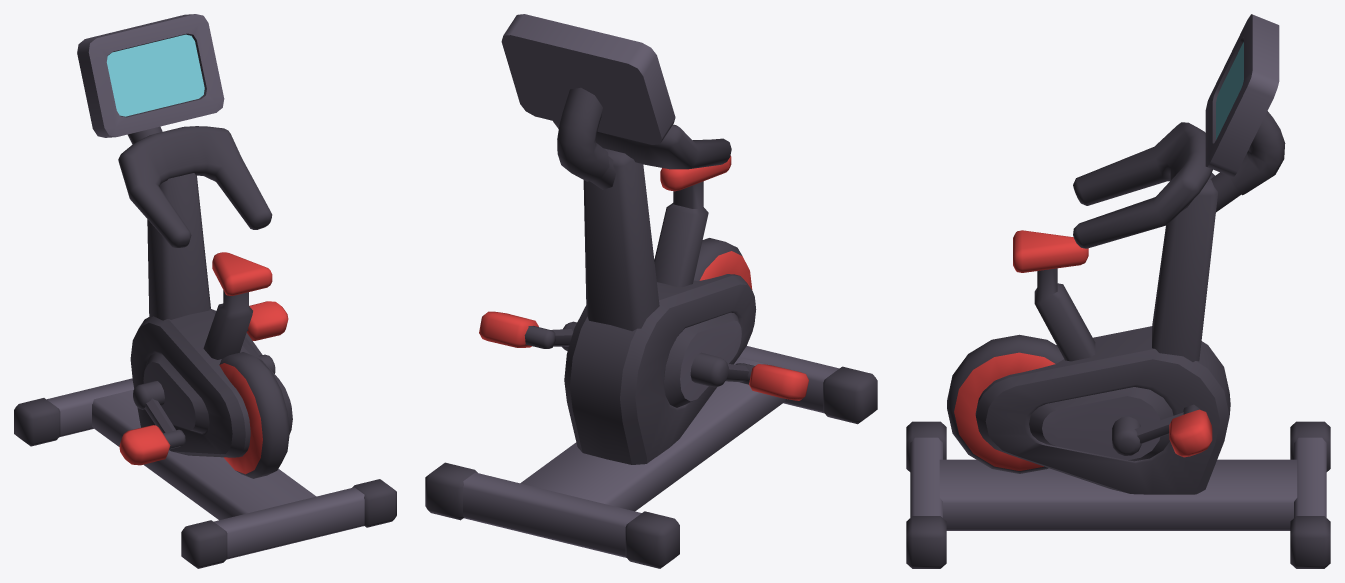
Rendered from Cycling_Machines_v01.fbx.
The picture shows the model from 3 angles, left to right: view 1: azimuth 30°, elevation 25°; view 2: azimuth 150°, elevation 25°; view 3: azimuth 270°, elevation 25°; orthographic projection. The views are drawn at different scales.
Visible parts, largest first — view 1: Cycling_Machines_v01; view 2: Cycling_Machines_v01; view 3: Cycling_Machines_v01.
Boxes of the visible parts, left/top/right/bottom form: Cycling_Machines_v01: left=14, top=14, right=396, bottom=568; Cycling_Machines_v01: left=425, top=14, right=877, bottom=568; Cycling_Machines_v01: left=906, top=14, right=1330, bottom=568.
Size of the model in its own units: 0.7297 by 1.33 by 1.09.
Materials: 1 (1 with a texture image).
